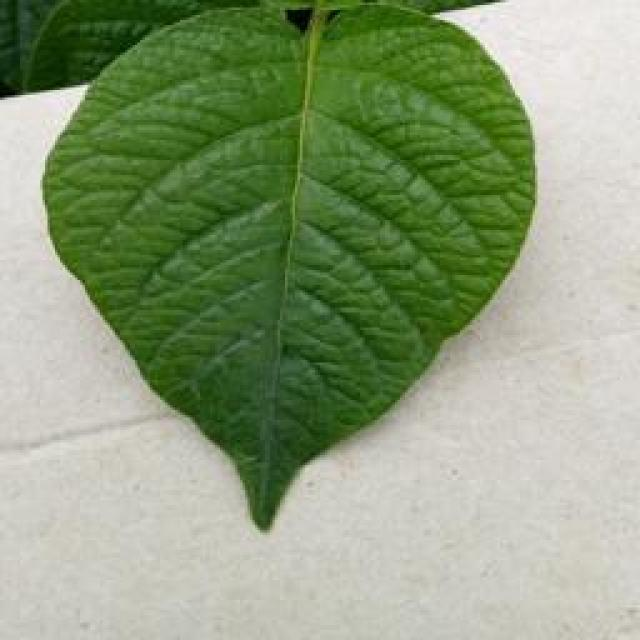healthy: (35, 0, 542, 532)
